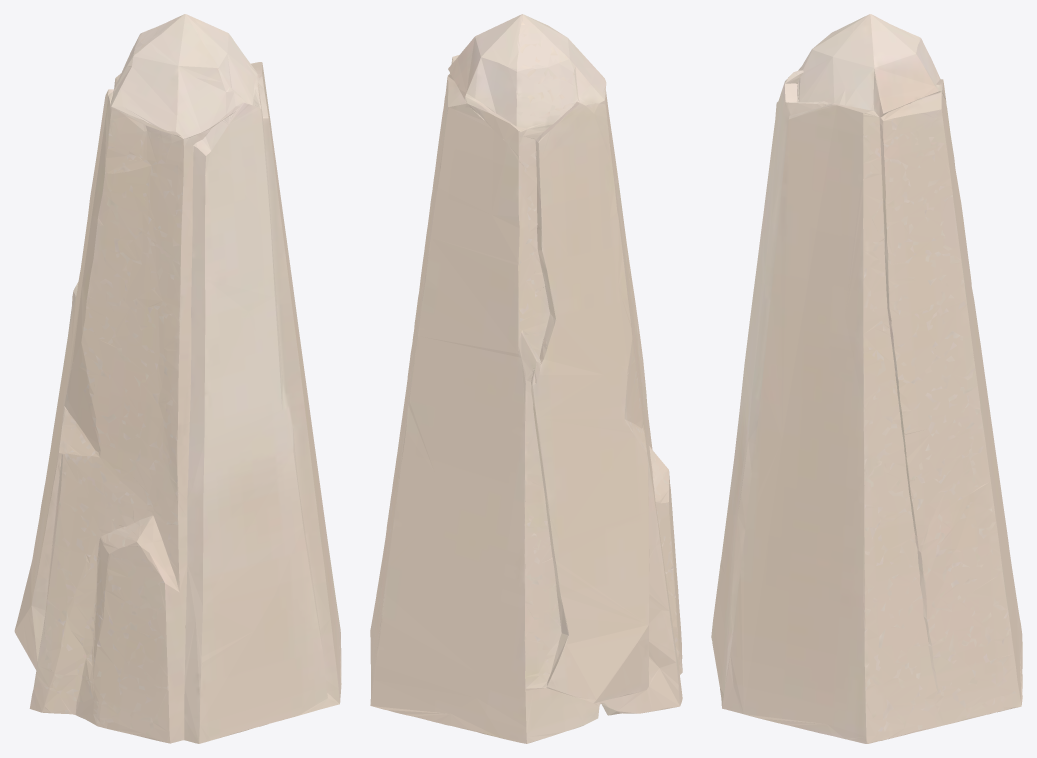
Rendered from stone-tall.glb.
3 renders of one model, left to right at view 1: azimuth 30°, elevation 25°; view 2: azimuth 150°, elevation 25°; view 3: azimuth 270°, elevation 25°, orthographic.
Visible parts, largest first — view 1: geometry_0; view 2: geometry_0; view 3: geometry_0.
Part boxes in pixels (x1,y1,x2,y2): geometry_0: (14,14,341,743); geometry_0: (370,14,682,743); geometry_0: (711,14,1022,743).
Size of the model in its own units: 0.4955 by 1 by 0.431.
1 material, 1 textured.
